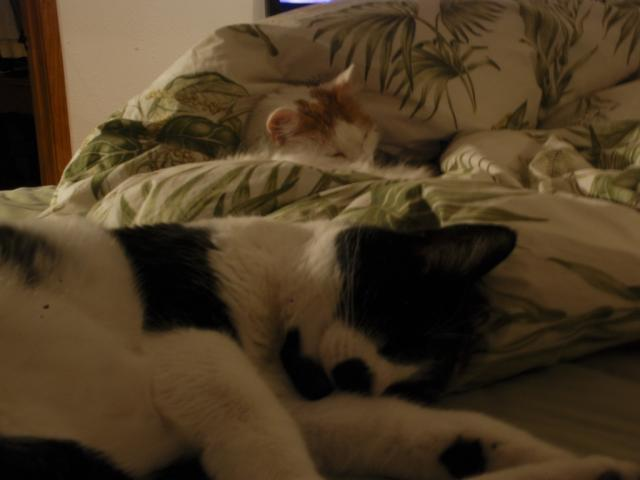Cat: (30, 182, 506, 470), (221, 59, 444, 180)
Dog: (0, 210, 640, 480)
